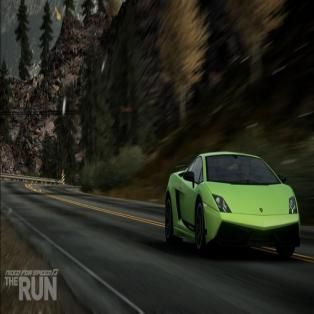Auto: (164, 150, 302, 260)
